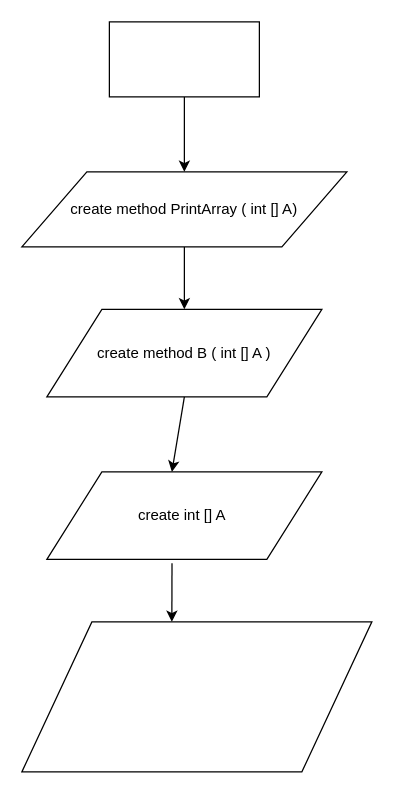
This 394x794 diagram has some shape labels left out. Each missing label, with the centre of its shape:
"ConsoleWriteline(" belongs at (x=196, y=696).
"start" belongs at (x=183, y=59).
